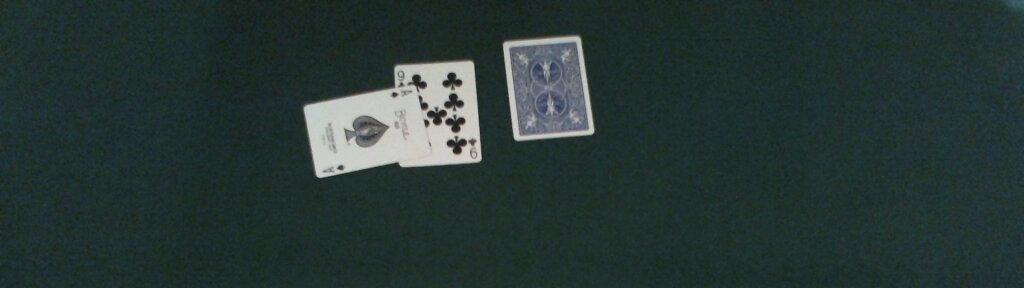ace: (301, 85, 431, 180)
back: (502, 34, 594, 141)
nine: (393, 60, 485, 167)
